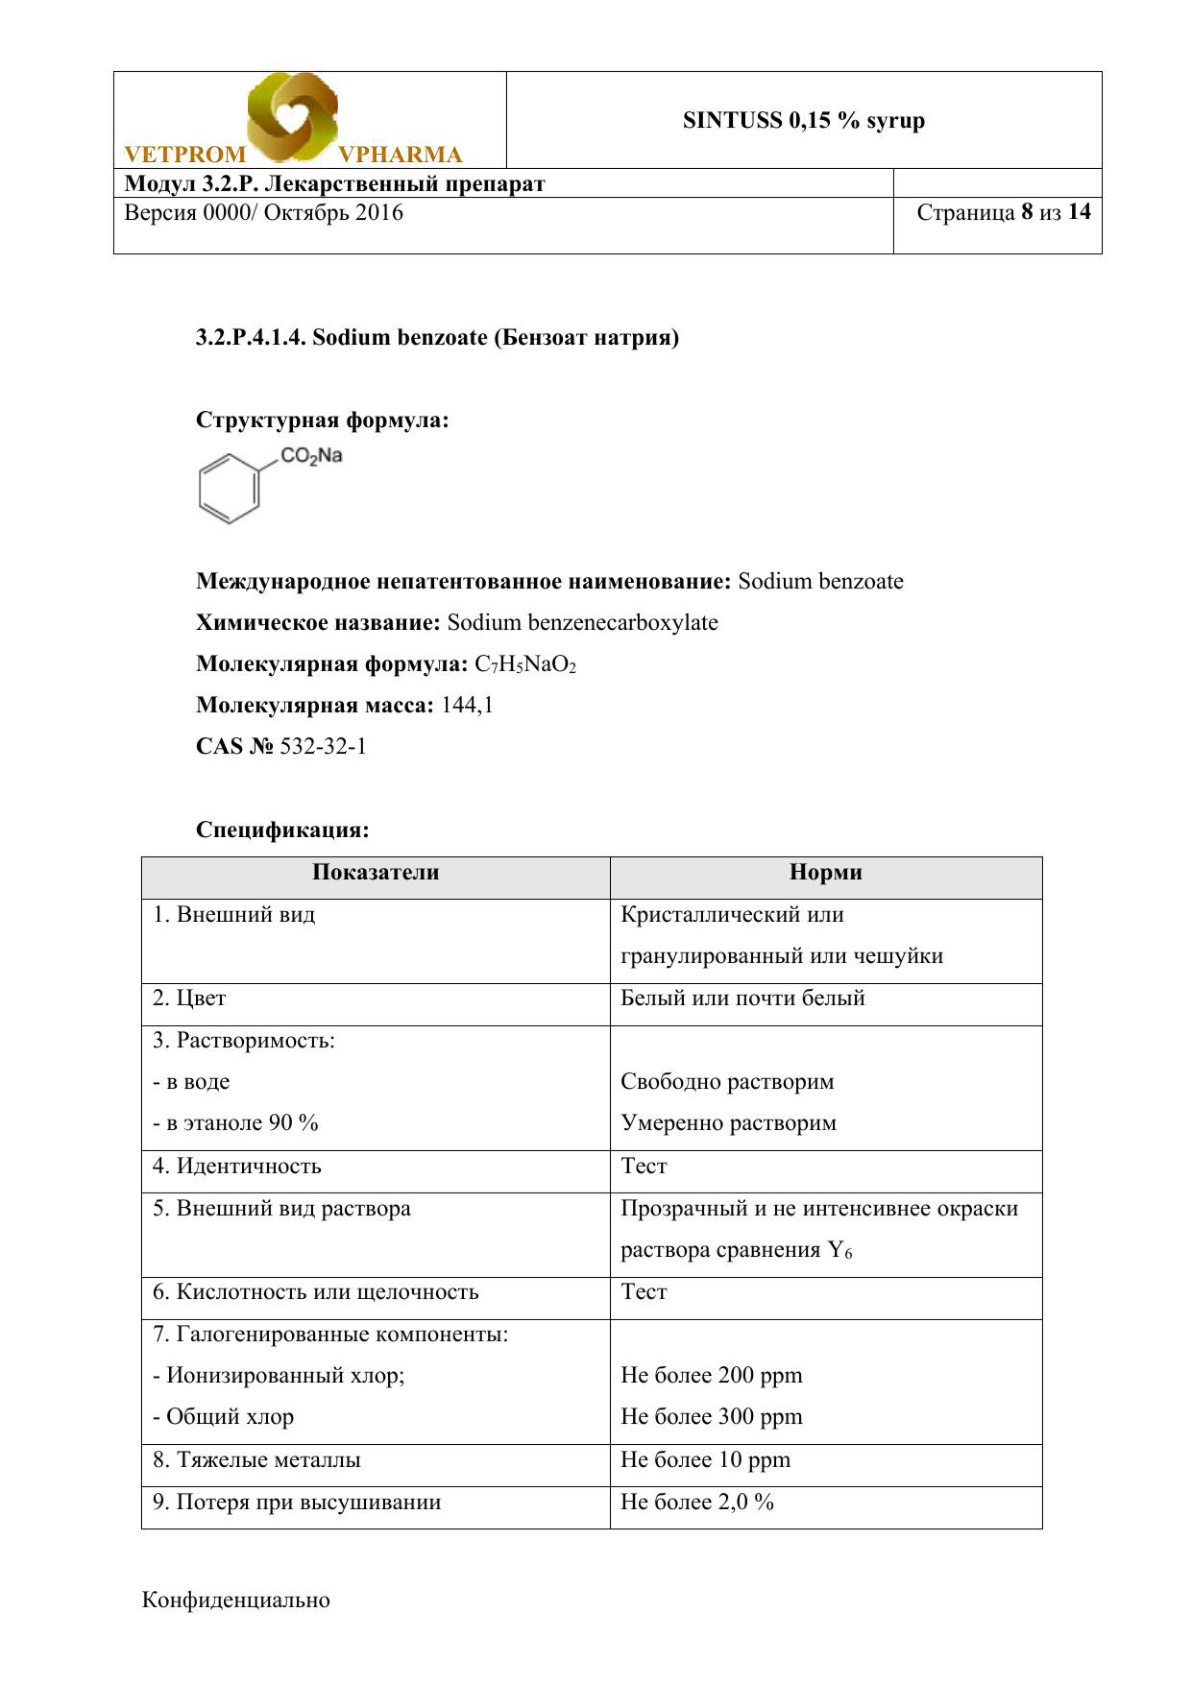full_lined: (139, 854, 1044, 1531)
merged_cells: (111, 68, 1104, 255)
